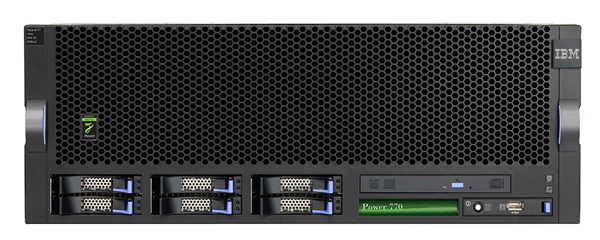ibm-server: (15, 18, 588, 231)
